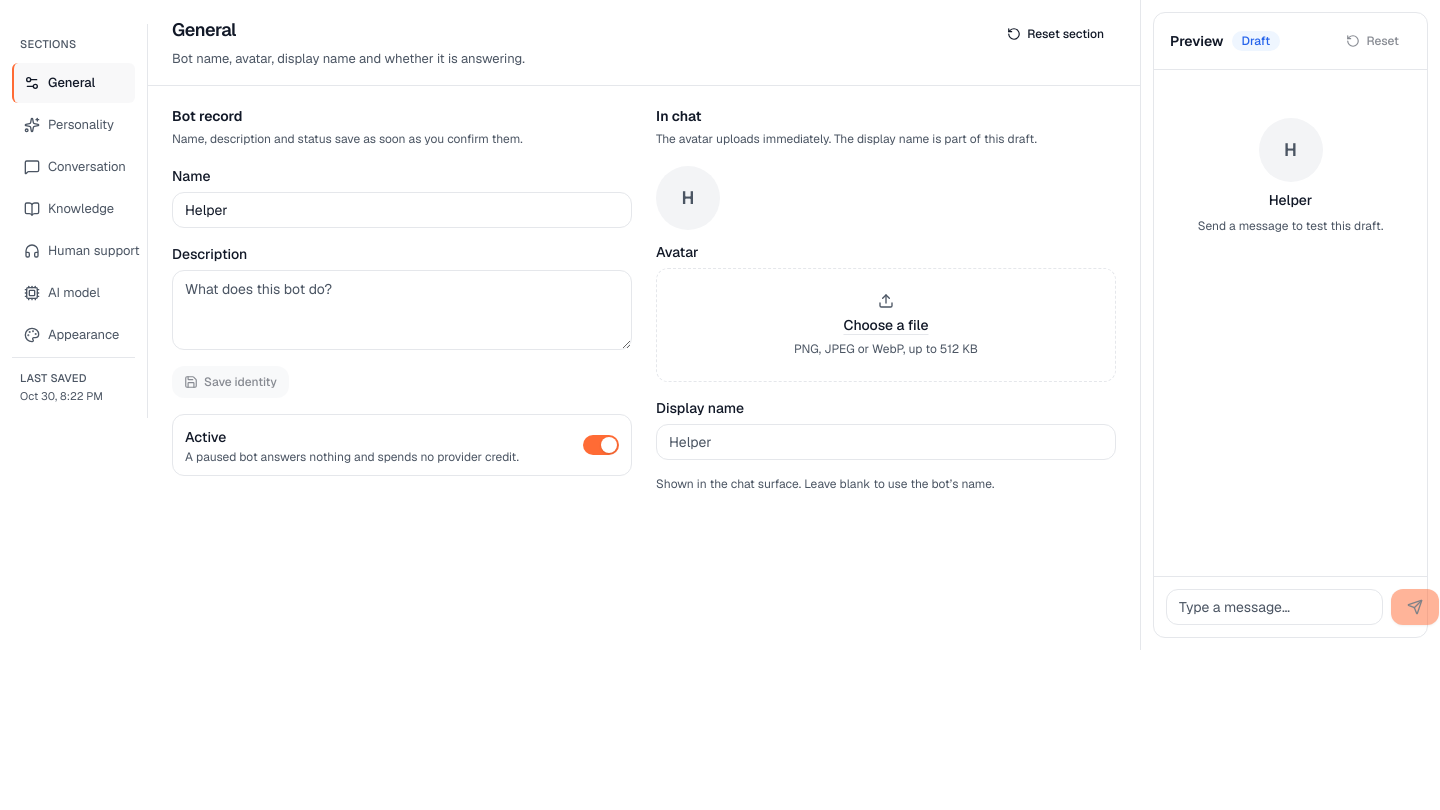
BotConfigTabs — draft lifecycle › opens the conflict dialog on 409
In the field labelled "Display name": [886, 442] box x1=656 y1=424 x2=1116 y2=460, type "Ada"
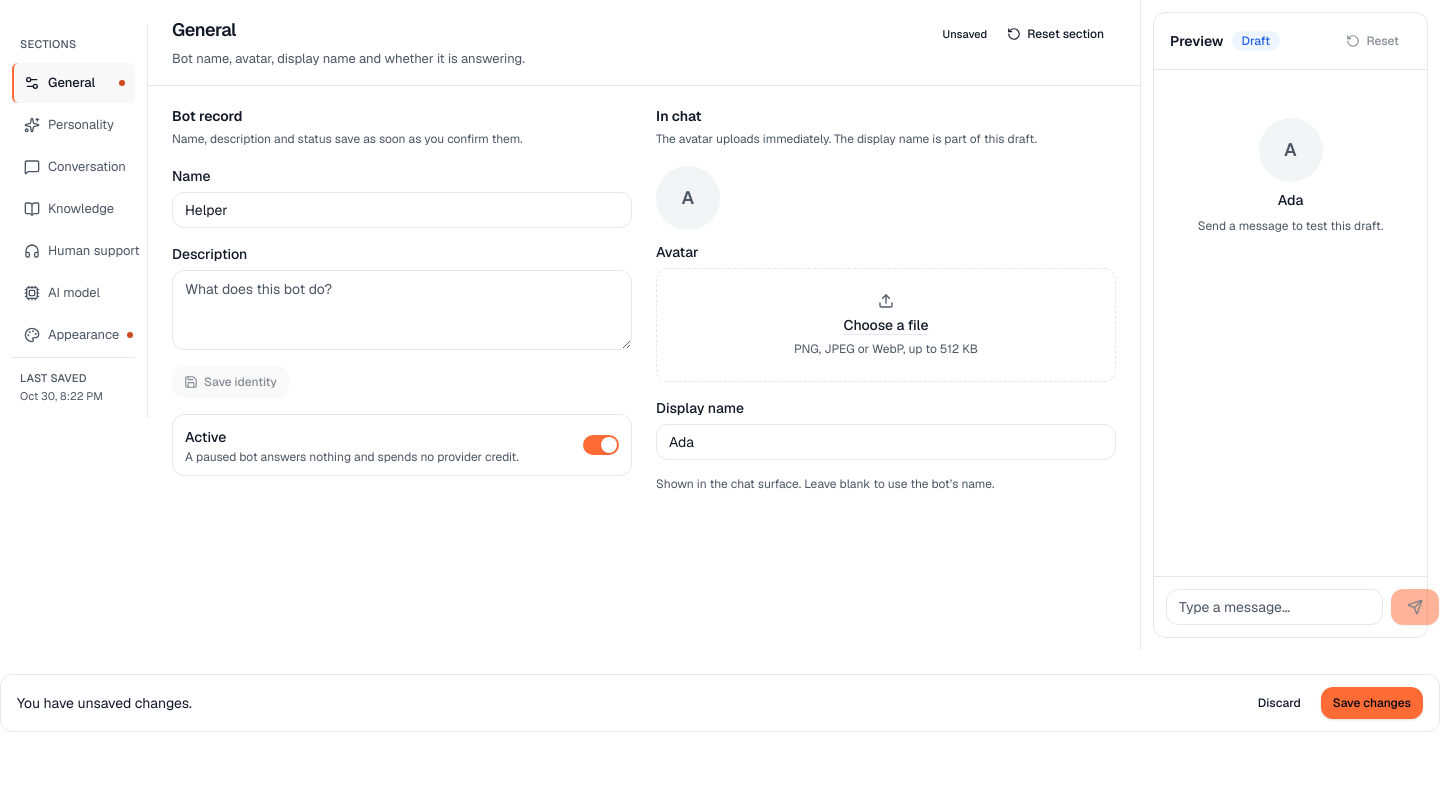
Click the button "Save changes": [1372, 703] box x1=1321 y1=687 x2=1423 y2=719
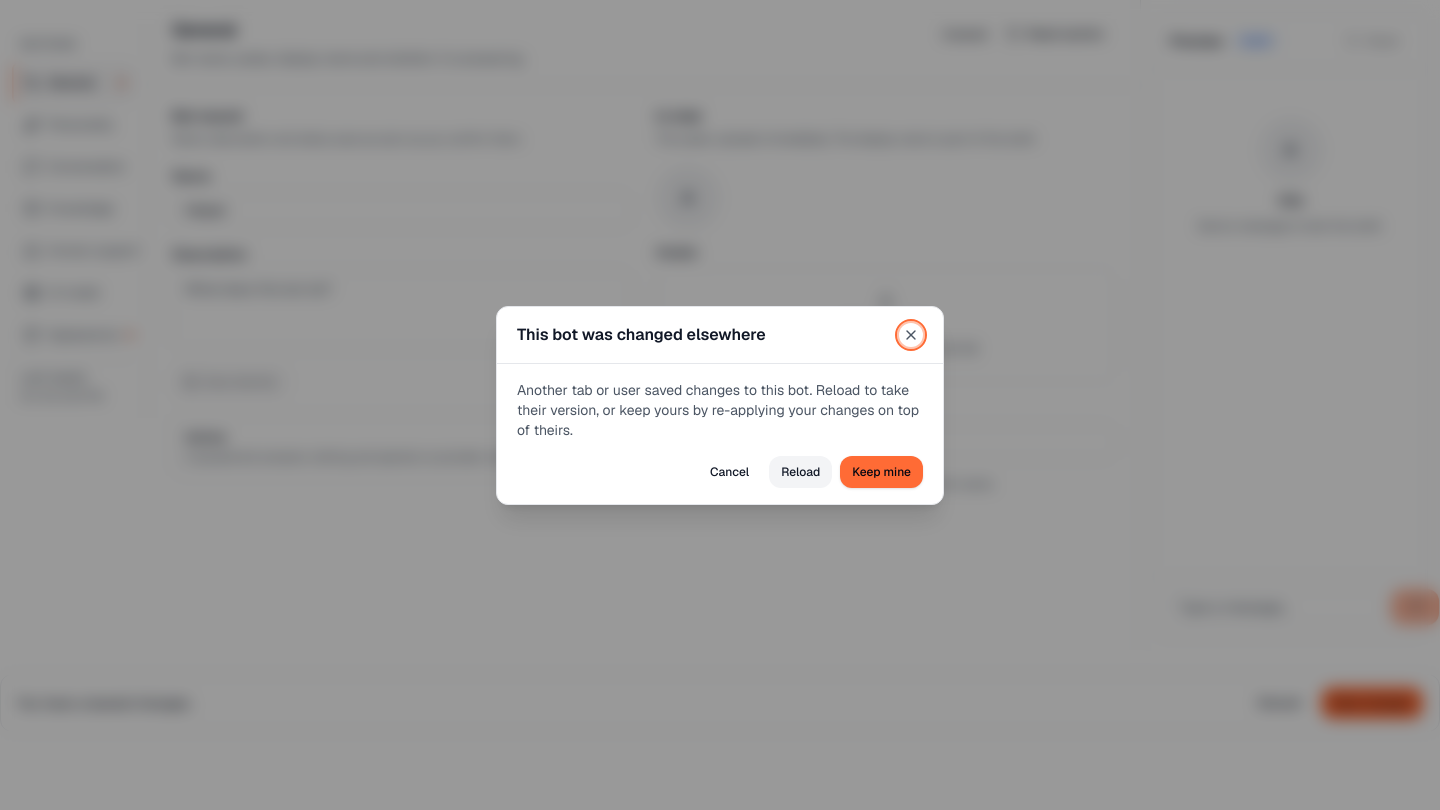
Expected: the heading "This bot was changed elsewhere" is shown, x1=517 y1=322 x2=766 y2=346
Expected: the button "Reload" is shown, x1=769 y1=456 x2=832 y2=488
Expected: the button "Keep mine" is shown, x1=840 y1=456 x2=923 y2=488
